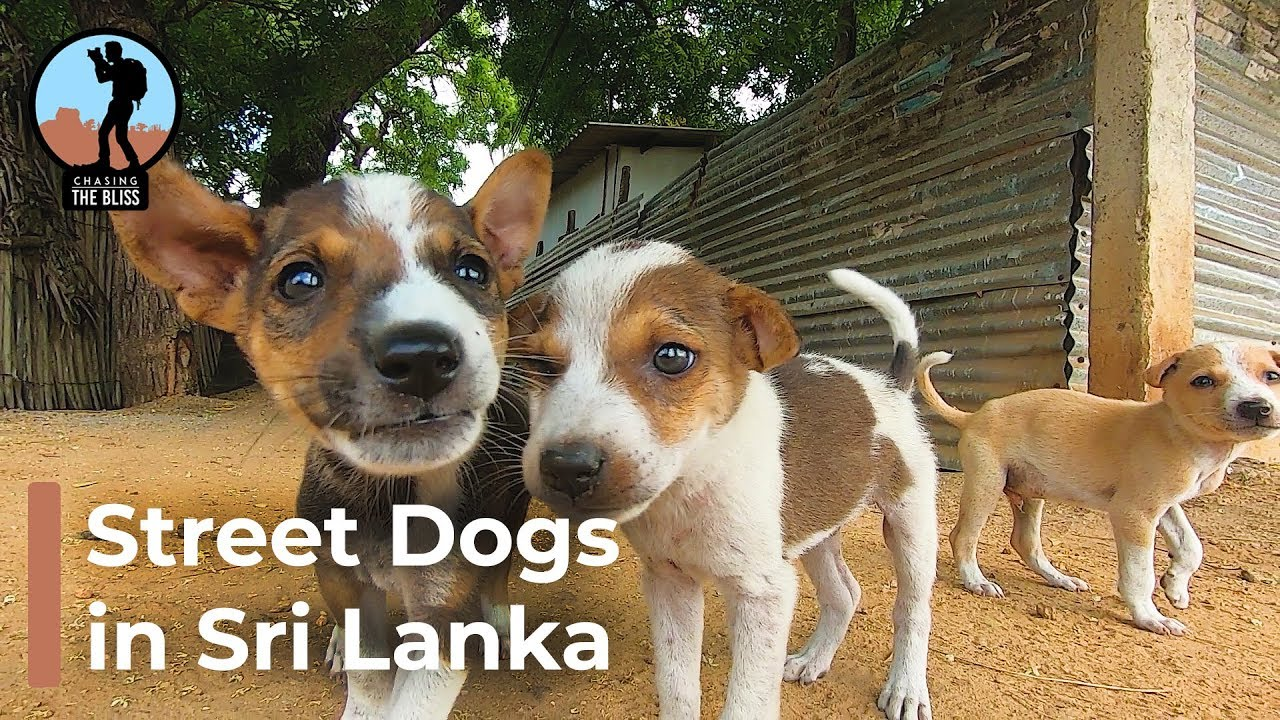Dog: (175, 120, 579, 488)
